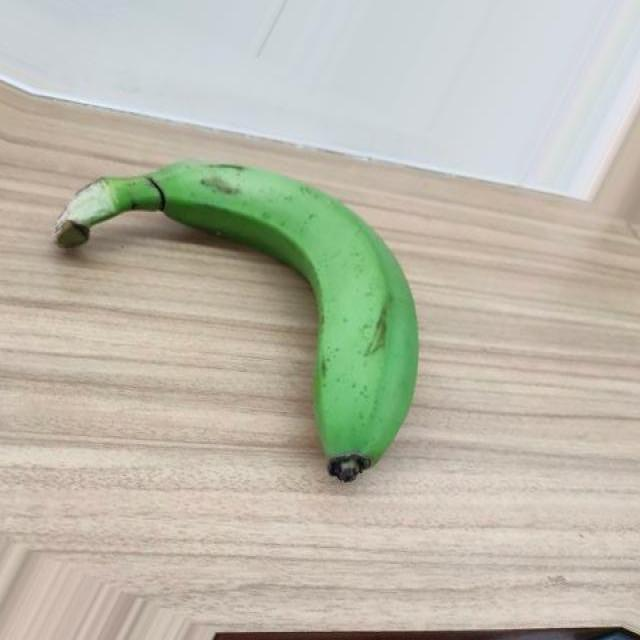Unripe: (51, 156, 420, 482)
